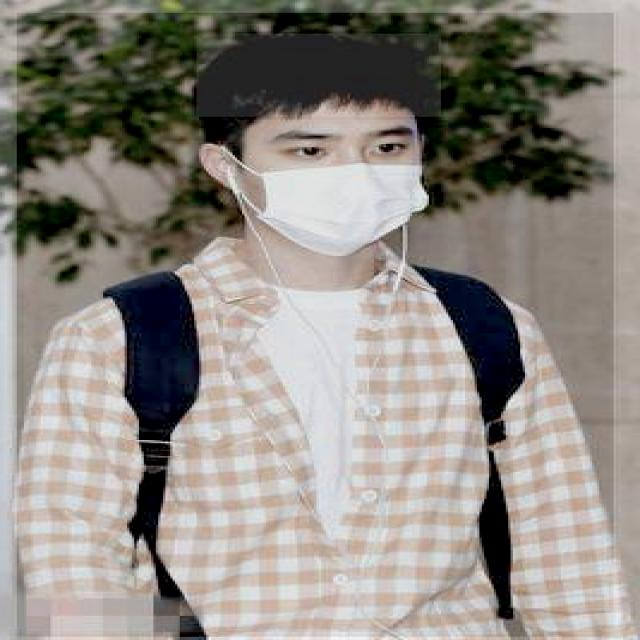face_mask: (240, 120, 422, 258)
head_nohelmet: (194, 34, 441, 118)
person: (14, 13, 614, 638)
